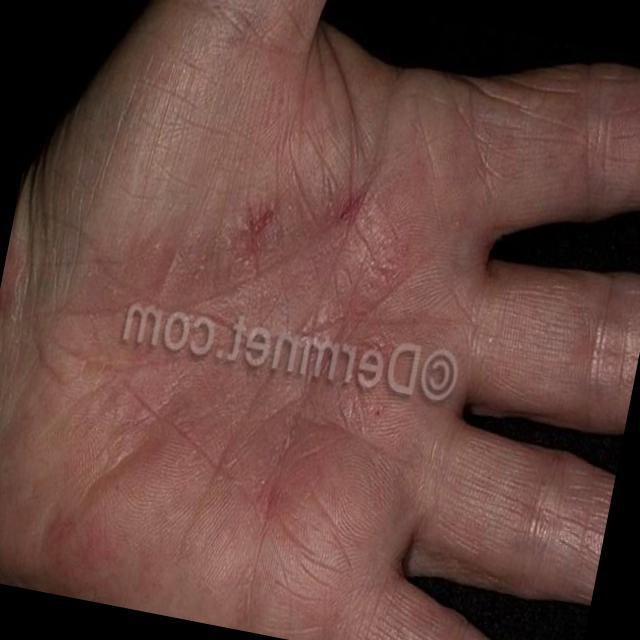Eczema: (67, 158, 434, 582)
